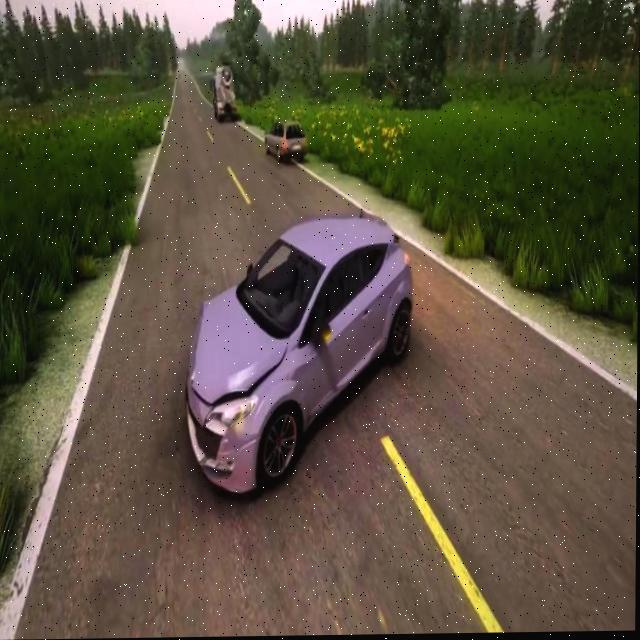multiple_accident: (145, 170, 418, 523), (265, 102, 332, 173)
